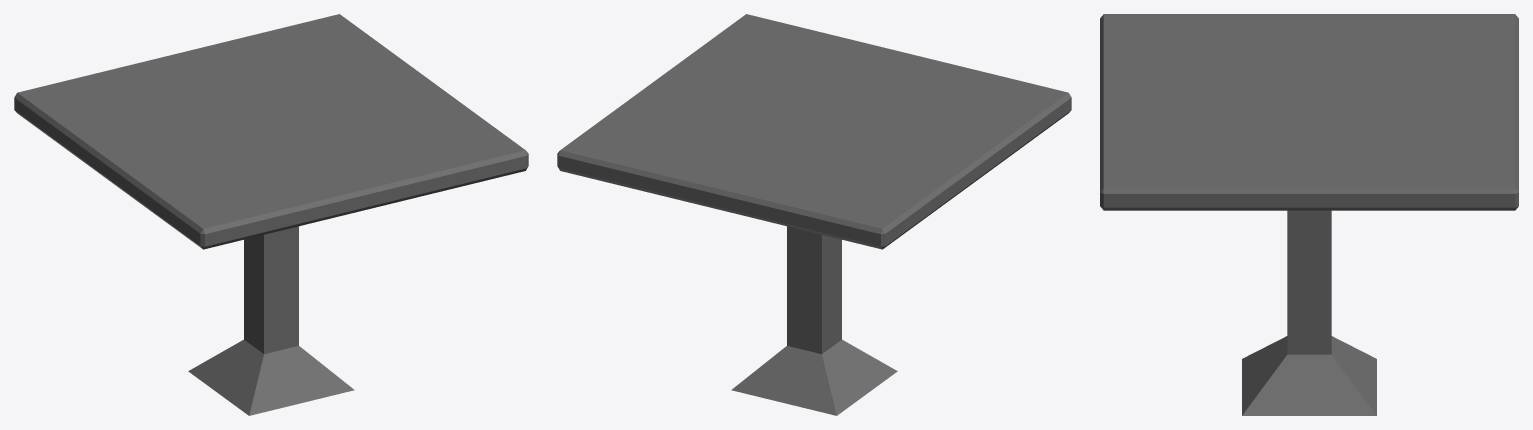
Rendered from Simple_table.glb.
3 renders of one model, left to right at view 1: azimuth 30°, elevation 25°; view 2: azimuth 150°, elevation 25°; view 3: azimuth 270°, elevation 25°, orthographic. The views are drawn at different scales.
Parts seen in each view (by area): view 1: pCube20; view 2: pCube20; view 3: pCube20.
Boxes of the visible parts, <box> form: pCube20: <box>14,14,528,415</box>; pCube20: <box>557,14,1071,415</box>; pCube20: <box>1100,14,1518,415</box>.
Size of the model in its own units: 1.53 by 1.16 by 1.53.
Materials: 1 (1 with a texture image).
